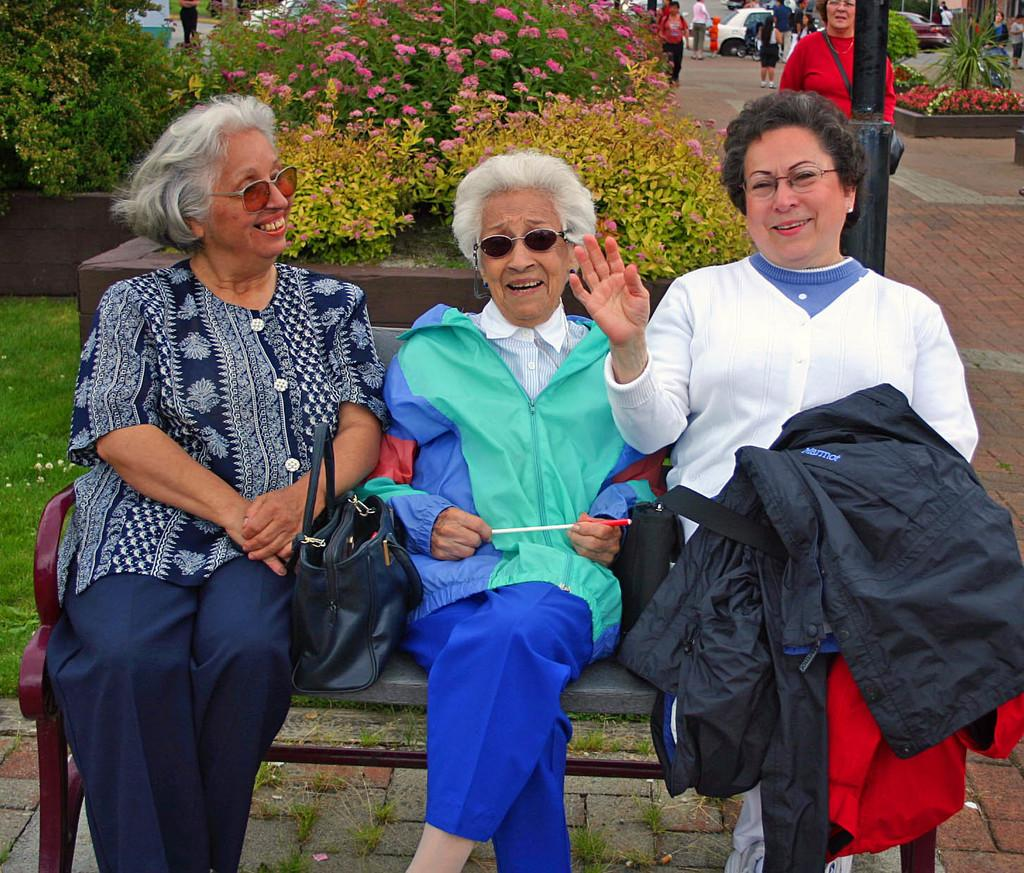Oculos: (211, 167, 296, 212), (474, 229, 565, 257)
Pessoa: (47, 95, 385, 872), (364, 151, 651, 872), (571, 91, 977, 497), (779, 0, 855, 116), (658, 0, 688, 83), (759, 15, 782, 89), (771, 0, 791, 59), (691, 0, 710, 58), (179, 0, 199, 44), (1008, 10, 1023, 68), (992, 10, 1008, 43), (939, 0, 953, 26)
